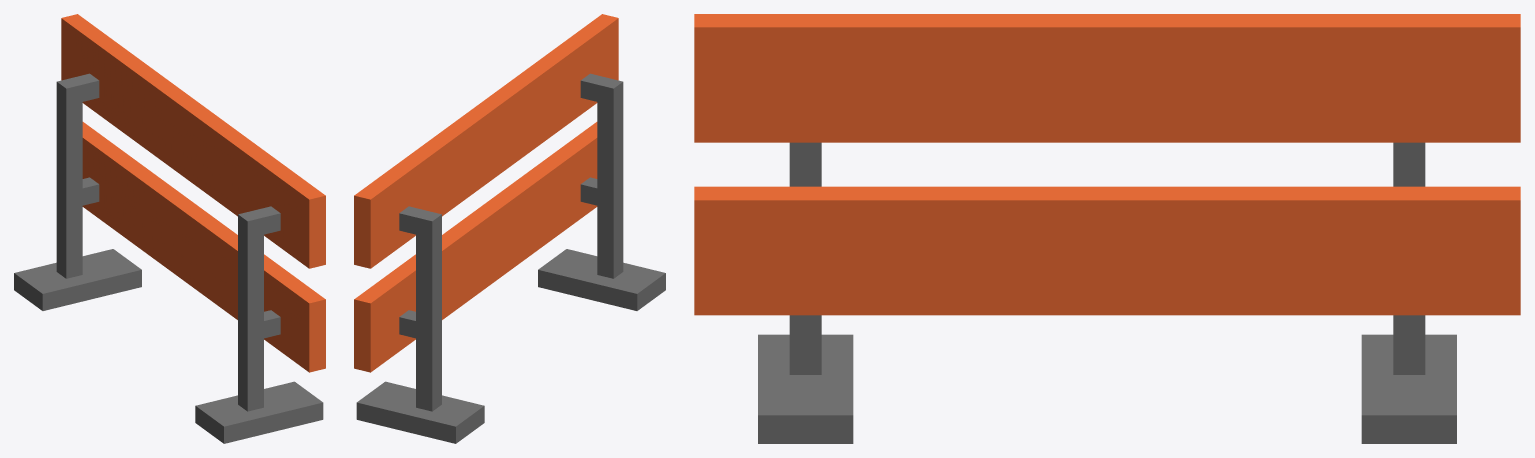
Rendered from All-5-Doroga_Zabor.obj.
3 views of the same model, side by side, from view 1: azimuth 30°, elevation 25°; view 2: azimuth 150°, elevation 25°; view 3: azimuth 270°, elevation 25° (orthographic). The views are drawn at different scales.
Visible parts, largest first — view 1: Doroga_Zabor; view 2: Doroga_Zabor; view 3: Doroga_Zabor.
Part boxes in pixels (<box>): Doroga_Zabor: <box>14,14,325,443</box>; Doroga_Zabor: <box>354,14,665,443</box>; Doroga_Zabor: <box>694,14,1520,443</box>.
Size of the model in its own units: 0.6 by 1.4 by 2.6.
1 material, 1 textured.
